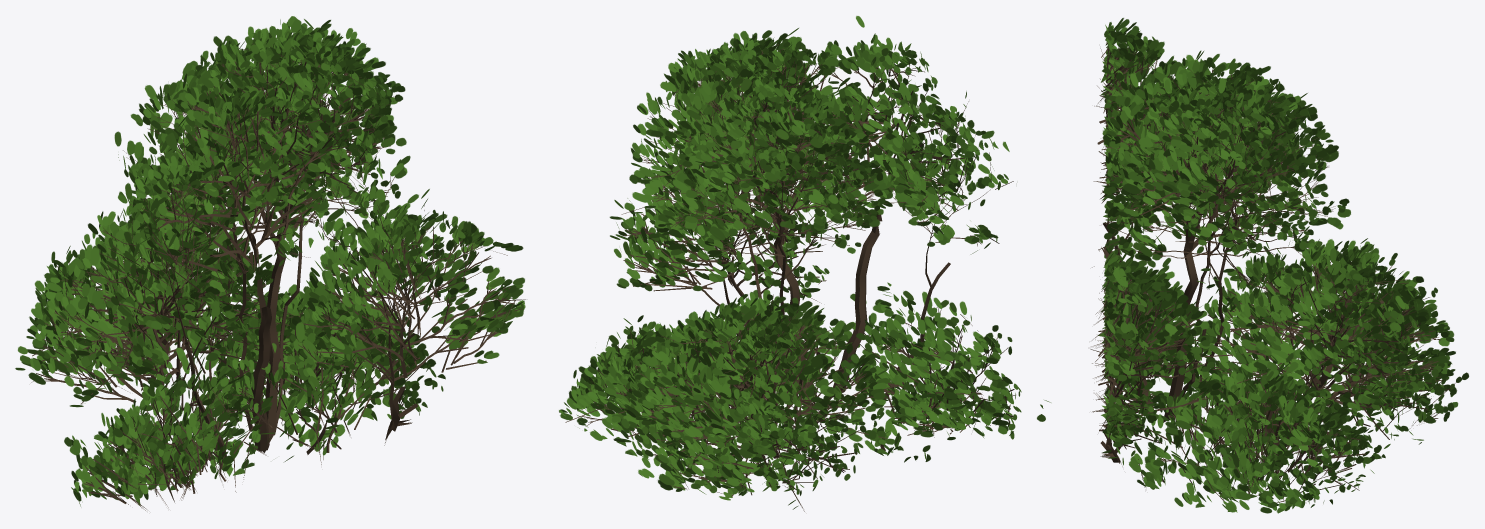
The picture shows the model from 3 angles, left to right: view 1: azimuth 30°, elevation 25°; view 2: azimuth 150°, elevation 25°; view 3: azimuth 270°, elevation 25°; orthographic projection. The views are drawn at different scales.
Parts seen in each view (by area): view 1: oak 01.001_trunk_Mat.001_0.361; view 2: oak 01.001_trunk_Mat.001_0.361; view 3: oak 01.001_trunk_Mat.001_0.361.
Part boxes in pixels (<box>): oak 01.001_trunk_Mat.001_0.361: <box>15,16,525,510</box>; oak 01.001_trunk_Mat.001_0.361: <box>559,16,1050,511</box>; oak 01.001_trunk_Mat.001_0.361: <box>1090,18,1468,513</box>.
Bounding box in the file's own units: 5.51 × 4.81 × 4.18.
2 materials, 1 textured.
